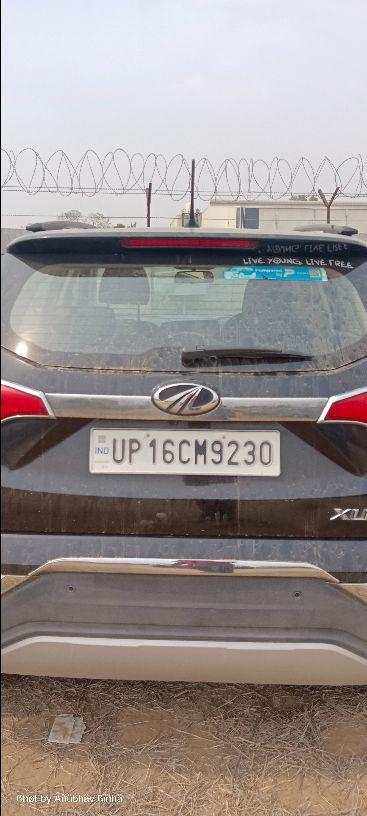license_plate: (87, 426, 281, 477)
